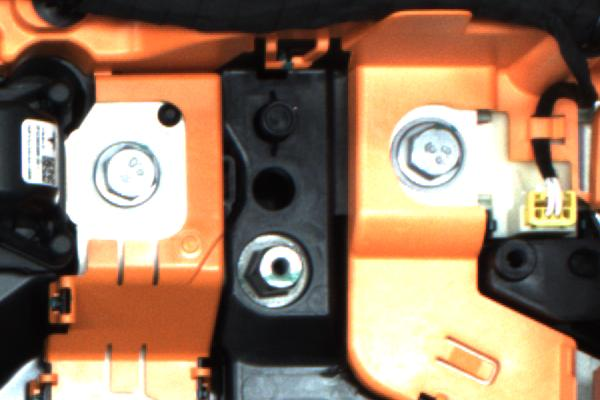nut_b: (85, 136, 173, 218), (385, 118, 474, 195)
